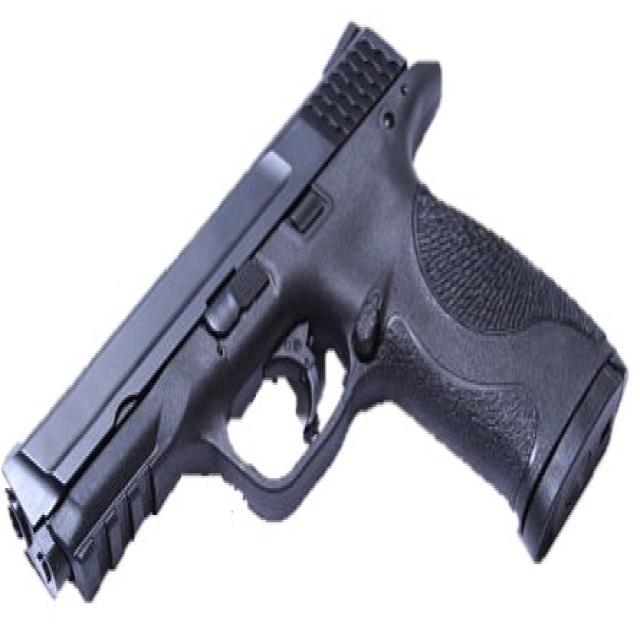pistol: (1, 16, 636, 609)
